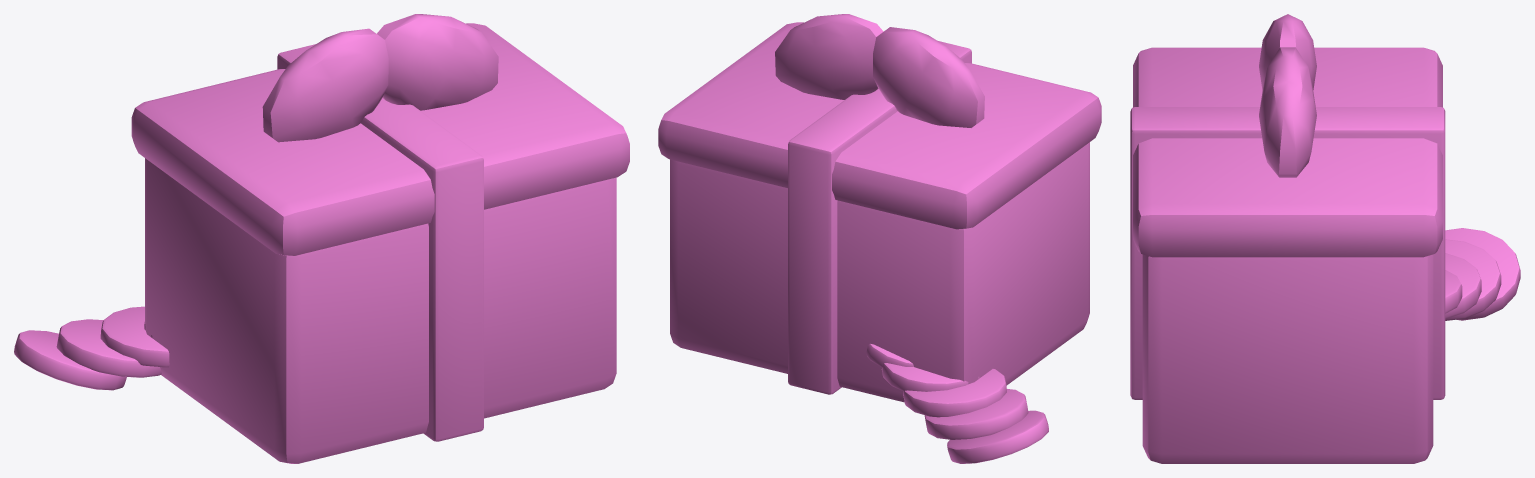
Rendered from Item_StarterPack.fbx.
The picture shows the model from 3 angles, left to right: view 1: azimuth 30°, elevation 25°; view 2: azimuth 150°, elevation 25°; view 3: azimuth 270°, elevation 25°; orthographic projection. The views are drawn at different scales.
Parts seen in each view (by area): view 1: StarterPack; view 2: StarterPack; view 3: StarterPack.
Part boxes in pixels (x1,y1,x2,y2): StarterPack: [14, 14, 629, 463]; StarterPack: [658, 14, 1101, 463]; StarterPack: [1130, 14, 1520, 463].
Size of the model in its own units: 5.28 by 4.18 by 4.03.
Materials: 1 (1 with a texture image).
